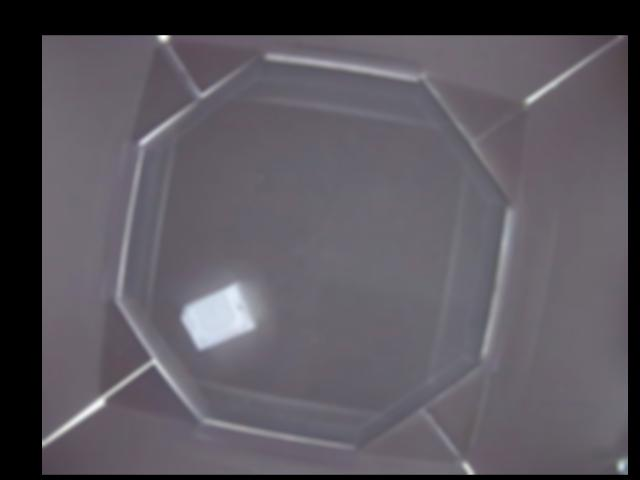China: (178, 284, 254, 350)
